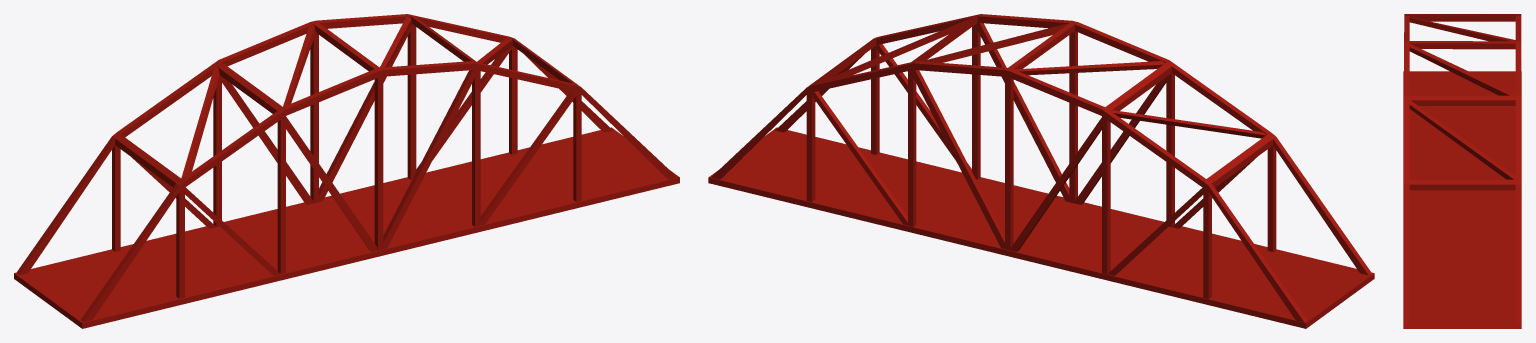
The model's file is bowstringtrussbridge.obj.
3 views of the same model, side by side, from view 1: azimuth 30°, elevation 25°; view 2: azimuth 150°, elevation 25°; view 3: azimuth 270°, elevation 25° (orthographic). The views are drawn at different scales.
Parts seen in each view (by area): view 1: Cube_Cube.004; view 2: Cube_Cube.004; view 3: Cube_Cube.004.
Part boxes in pixels (x1=…): Cube_Cube.004: x1=14, y1=14, x2=679, y2=328; Cube_Cube.004: x1=708, y1=14, x2=1374, y2=328; Cube_Cube.004: x1=1403, y1=14, x2=1521, y2=328.
Size of the model in its own units: 22.38 by 6.62 by 4.44.
